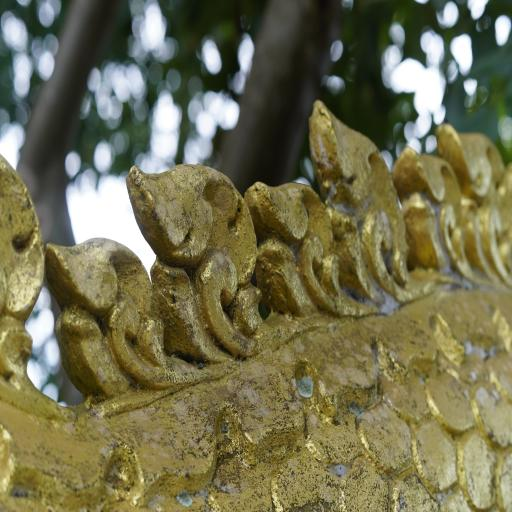la: (128, 154, 278, 382), (300, 93, 424, 309), (34, 216, 170, 401), (251, 167, 340, 330), (440, 112, 512, 297), (0, 139, 51, 394), (396, 142, 468, 298)
